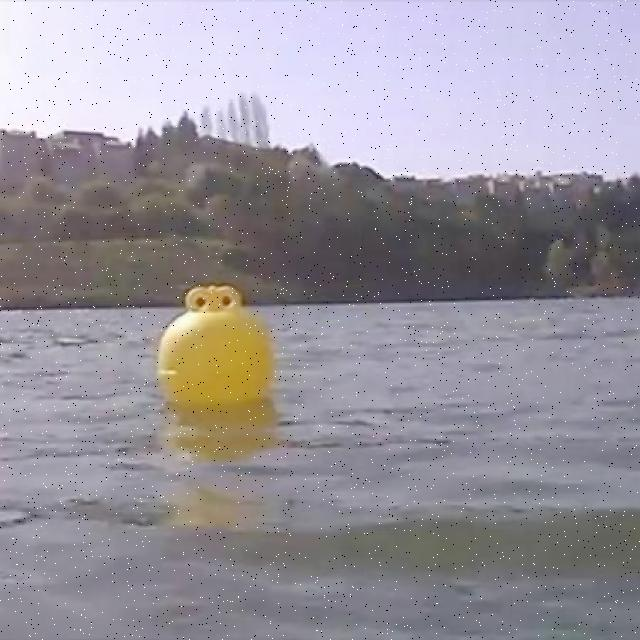buoy: (157, 289, 277, 404)
